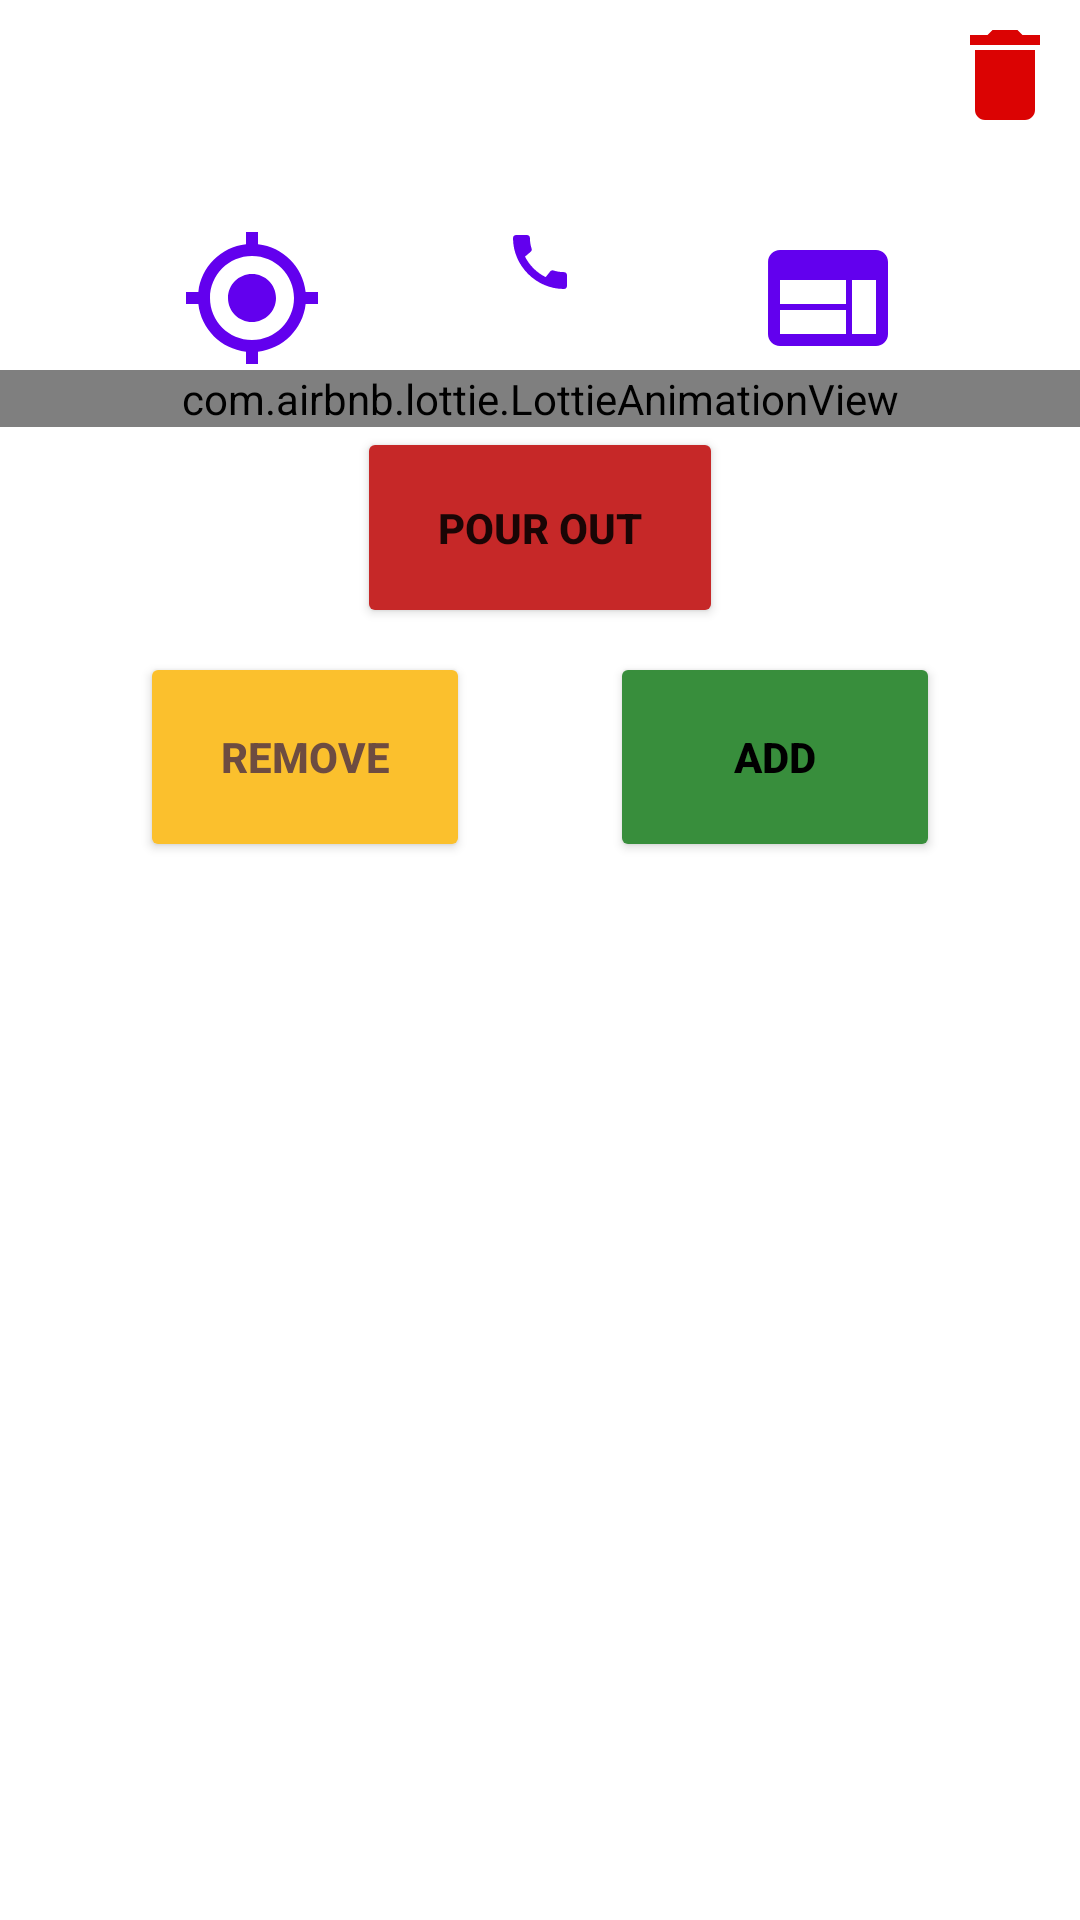

Screen size 1080x1920. Icon name, then its box in pixels as {"left": x1, "top": y1, "right": x2, "bottom": y2}:
call: {"left": 513, "top": 235, "right": 567, "bottom": 289}
delete: {"left": 970, "top": 30, "right": 1040, "bottom": 120}
location: {"left": 186, "top": 232, "right": 318, "bottom": 364}
web: {"left": 768, "top": 250, "right": 888, "bottom": 346}
